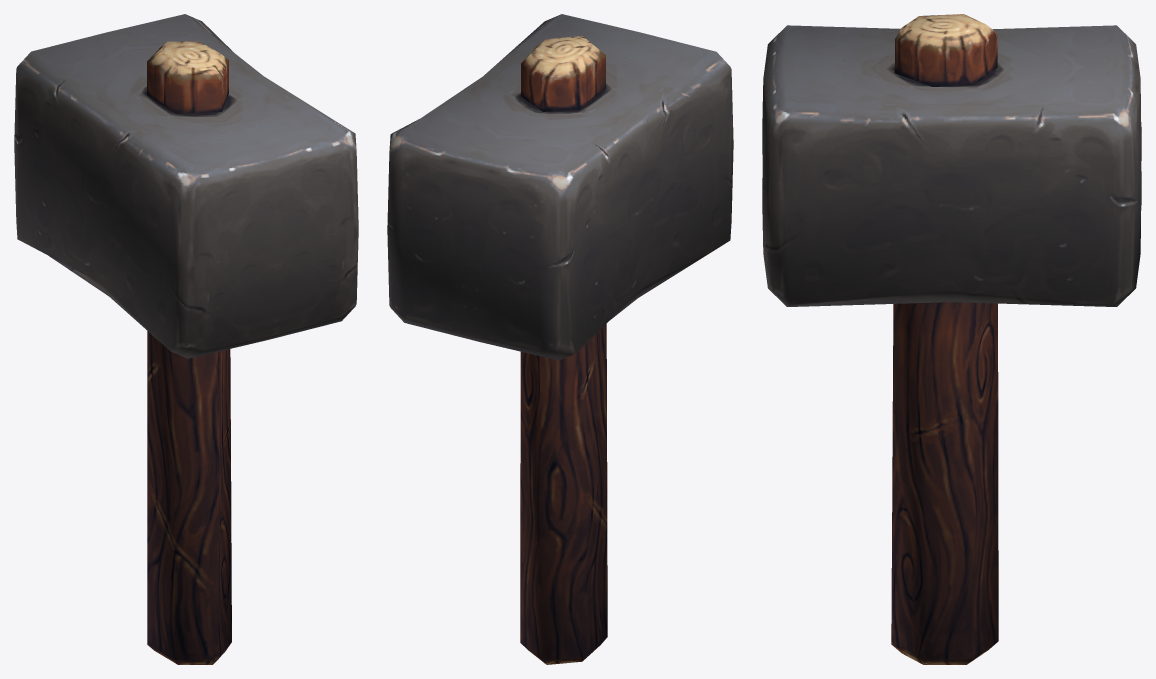
File: hammer.fbx
The picture shows the model from 3 angles, left to right: view 1: azimuth 30°, elevation 25°; view 2: azimuth 150°, elevation 25°; view 3: azimuth 270°, elevation 25°; orthographic projection. The views are drawn at different scales.
Visible parts, largest first — view 1: hammerobjcleanermaterialmergergles; view 2: hammerobjcleanermaterialmergergles; view 3: hammerobjcleanermaterialmergergles.
Boxes of the visible parts, left/top/right/bottom form: hammerobjcleanermaterialmergergles: left=14, top=14, right=358, bottom=664; hammerobjcleanermaterialmergergles: left=387, top=14, right=733, bottom=664; hammerobjcleanermaterialmergergles: left=762, top=14, right=1141, bottom=664.
Size of the model in its own units: 45.61 by 141 by 77.1.
1 material, 1 textured.
